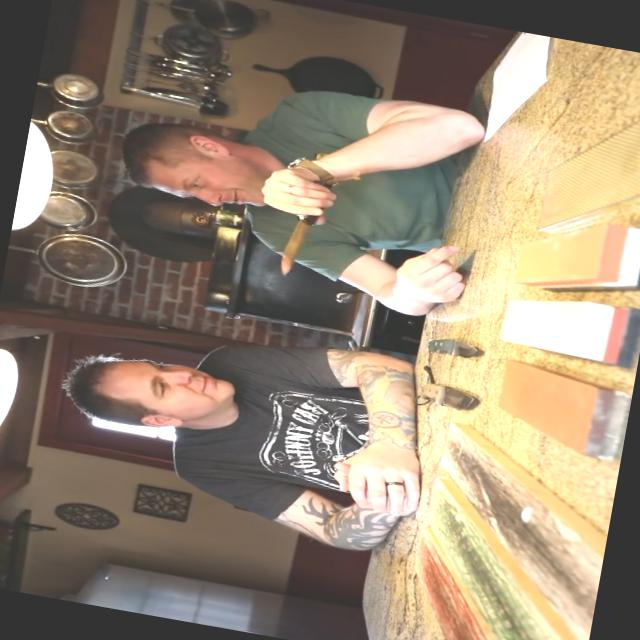knife: (242, 182, 346, 292)
